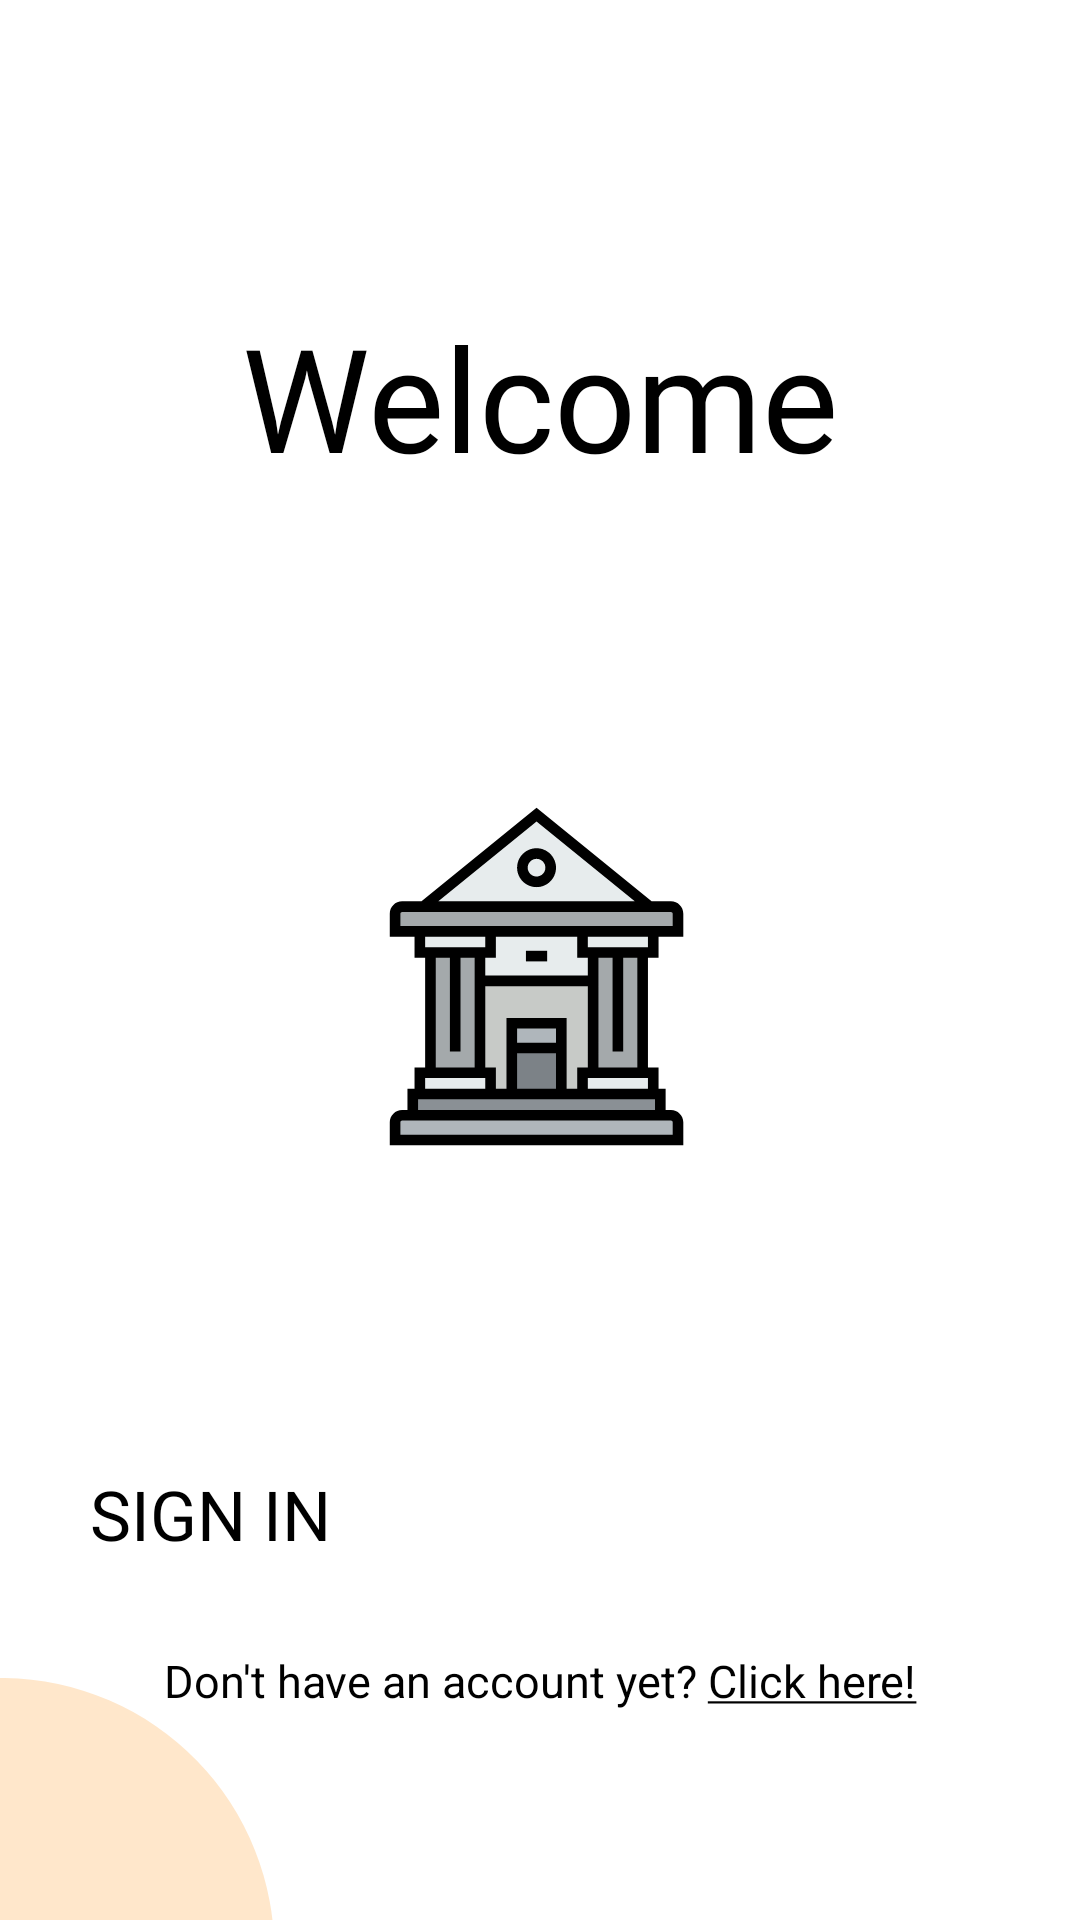

Where to tap for icons on this 1080×1920 app screen, as point (x, y):
bank: point (536, 977)
